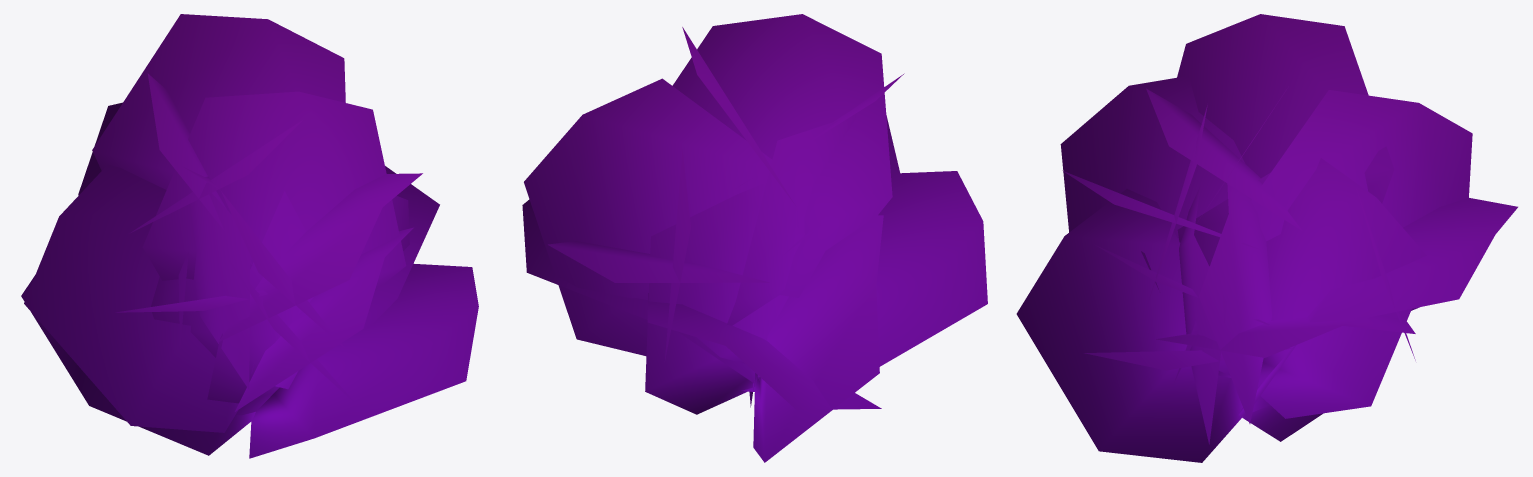
Rendered from SM_Plant_Bush_Leaves_03.gltf.
3 views of the same model, side by side, from view 1: azimuth 30°, elevation 25°; view 2: azimuth 150°, elevation 25°; view 3: azimuth 270°, elevation 25° (orthographic). The views are drawn at different scales.
Visible parts, largest first — view 1: SM_Plant_Bush_Leaves_03; view 2: SM_Plant_Bush_Leaves_03; view 3: SM_Plant_Bush_Leaves_03.
Boxes of the visible parts, bbox=[...] form: SM_Plant_Bush_Leaves_03: bbox=[21, 14, 478, 458]; SM_Plant_Bush_Leaves_03: bbox=[522, 14, 987, 462]; SM_Plant_Bush_Leaves_03: bbox=[1016, 14, 1517, 462].
Size of the model in its own units: 1.62 by 1.52 by 1.74.
